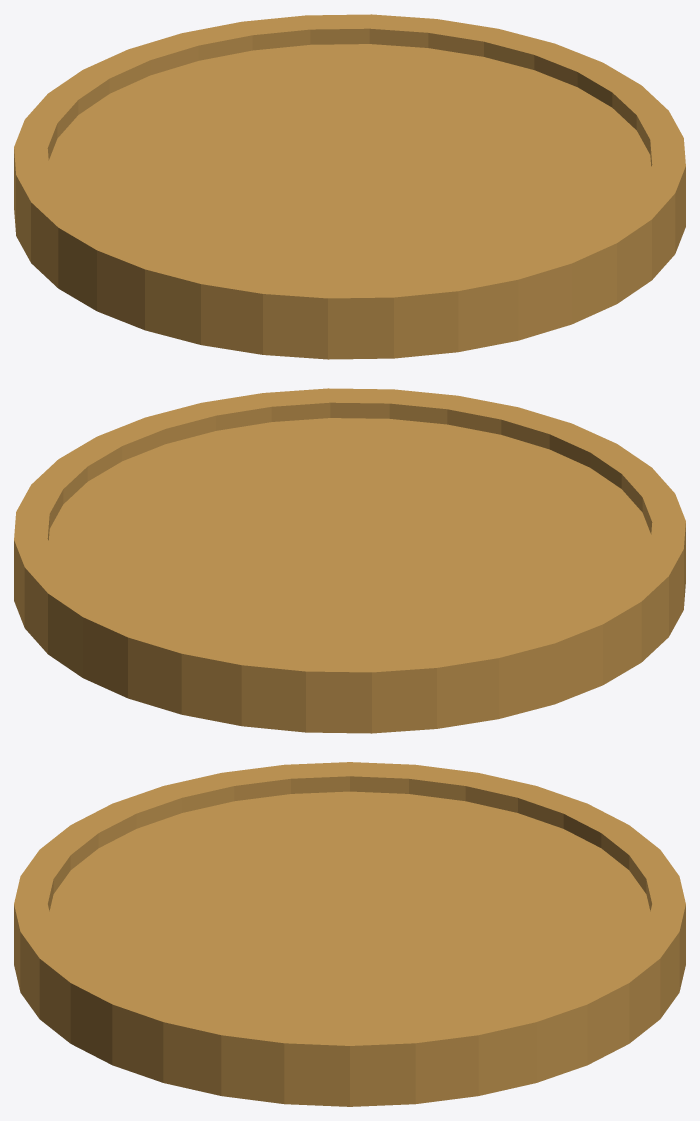
File: Coin.fbx
3 renders of one model, top to bottom at view 1: azimuth 30°, elevation 25°; view 2: azimuth 150°, elevation 25°; view 3: azimuth 270°, elevation 25°, orthographic.
Visible parts, largest first — view 1: Cylinder; view 2: Cylinder; view 3: Cylinder.
Part boxes in pixels (box(x1,y1,x2,y2)): Cylinder: box(14, 14, 685, 359); Cylinder: box(14, 388, 685, 733); Cylinder: box(14, 762, 685, 1106).
Bounding box in the file's own units: 200 × 20 × 200.
